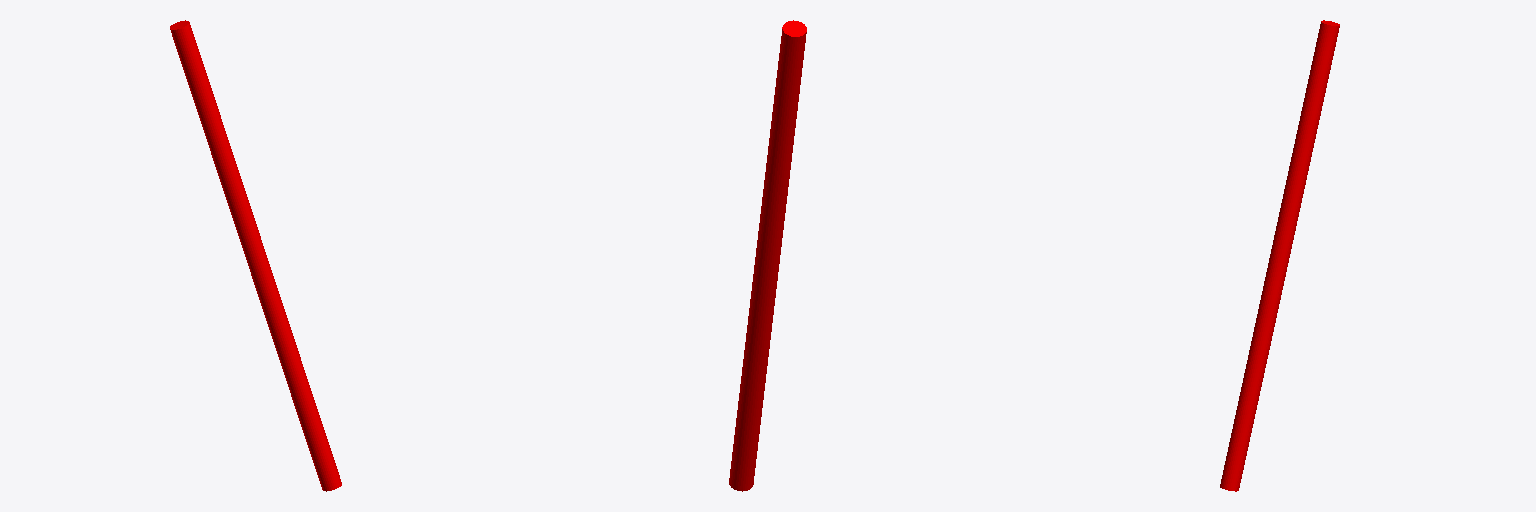
URDF robot description (tree_71.urdf):
<?xml version='1.0' encoding='utf-8'?>
<robot name="tree_71.urdf">
  <link name="branch_0">
    <inertial>
      <origin xyz="0.0 0.0 0.0" rpy="0.0 -0.0 0.0" />
      <mass value="1.0" />
      <inertia ixx="1.0" ixy="0.0" ixz="0.0" iyy="1.0" iyz="0.0" izz="1.0" />
    </inertial>
    <visual name="branch_0_visual">
      <geometry>
        <cylinder radius="0.05492296279396017" length="2.729040855456868" />
      </geometry>
      <material name="semantic_material" />
      <origin xyz="-0.30121035491681514 0.2839889765477673 1.3002071300290683" rpy="2.0194975947089235e-17 0.3082450304227401 2.3856142257753423" />
    </visual>
    <collision name="branch_0_collision">
      <geometry>
        <cylinder radius="0.05492296279396017" length="2.729040855456868" />
      </geometry>
      <origin xyz="-0.30121035491681514 0.2839889765477673 1.3002071300290683" rpy="2.0194975947089235e-17 0.3082450304227401 2.3856142257753423" />
    </collision>
  </link>
  <material name="semantic_material">
    <color rgba="1. 0. 0. 1." />
  </material>
</robot>

--- Facts derived from the render (not from the file) ---
The picture shows the robot from 3 angles, left to right: view 1: azimuth 30°, elevation 25°; view 2: azimuth 150°, elevation 25°; view 3: azimuth 270°, elevation 25°; orthographic projection.
Model tree_71.urdf with 1 links and 0 joints (none), rooted at branch_0, posed all joints at 0.
Visible links, largest first — view 1: branch_0; view 2: branch_0; view 3: branch_0.
Boxes of the visible links, left/top/right/bottom form: branch_0: left=170, top=20, right=341, bottom=491; branch_0: left=729, top=20, right=806, bottom=491; branch_0: left=1220, top=20, right=1339, bottom=491.
Size in the robot's own frame: 0.7096 by 0.6753 by 2.63 metres.
Geometry: primitives only (box / cylinder / sphere), no mesh files.